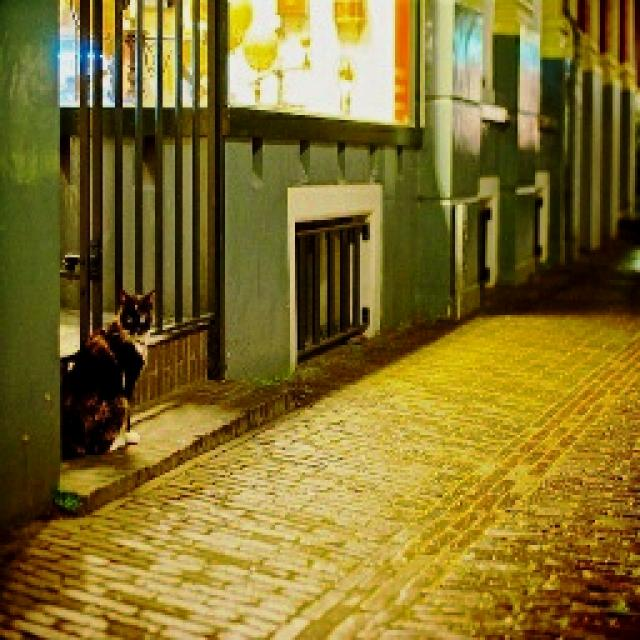cat: (55, 274, 164, 473)
